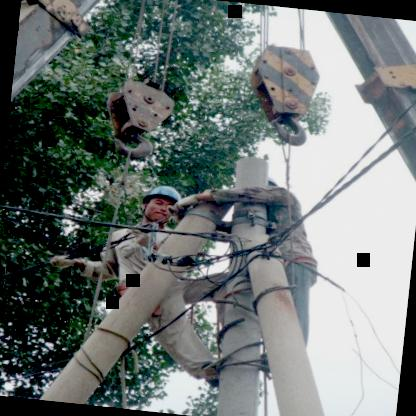helmet: (137, 180, 183, 224)
